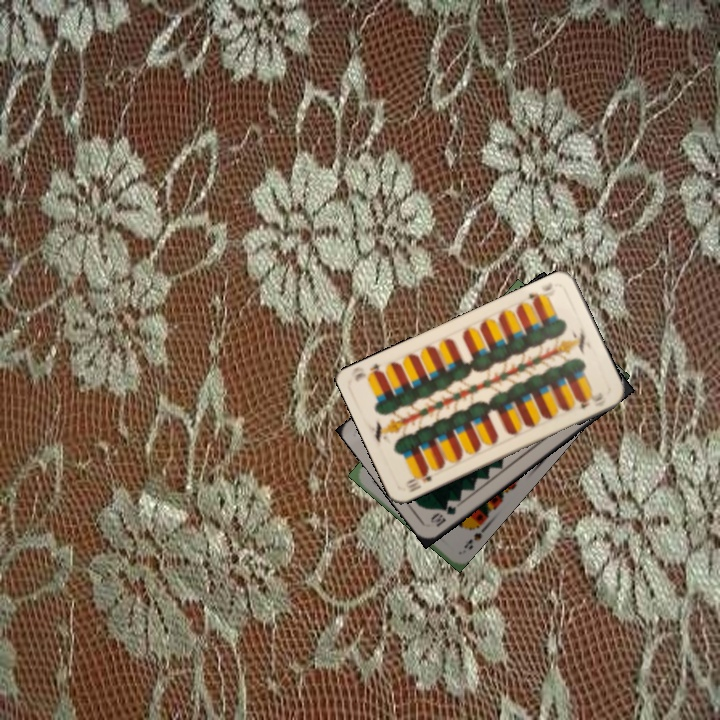E10: (401, 466, 434, 495), (523, 278, 555, 307)
G10: (426, 496, 463, 530)
S9: (460, 517, 490, 552)
